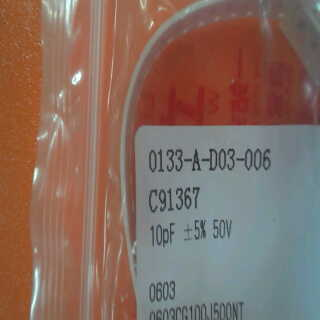10pF: (148, 216, 182, 248)
